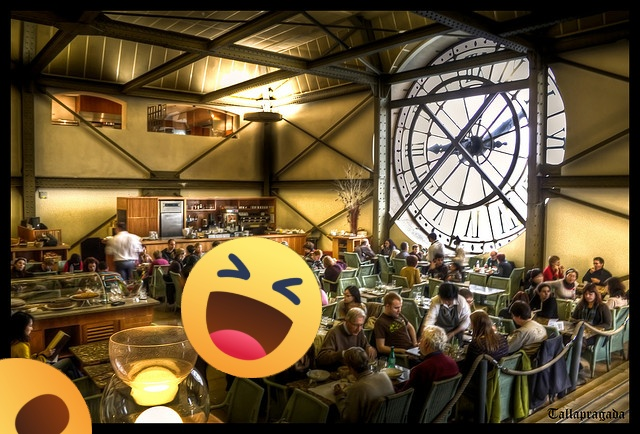haha: (181, 237, 322, 378)
wow: (0, 358, 92, 434)
